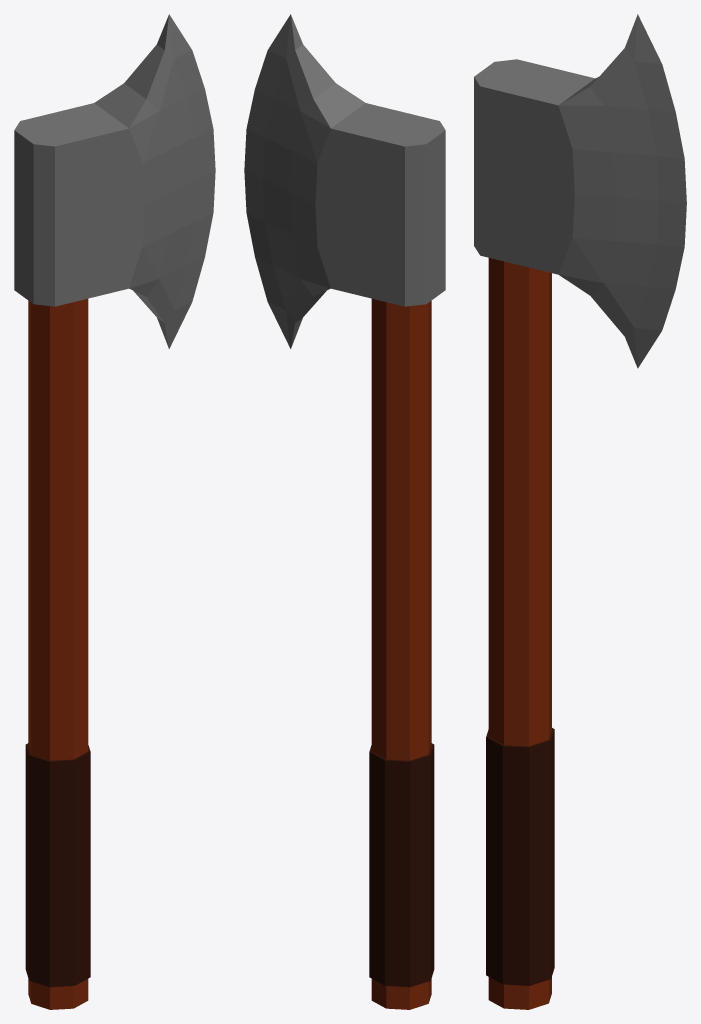
File: Axe.obj
The picture shows the model from 3 angles, left to right: view 1: azimuth 30°, elevation 25°; view 2: azimuth 150°, elevation 25°; view 3: azimuth 330°, elevation 25°; orthographic projection. The views are drawn at different scales.
Parts seen in each view (by area): view 1: Axe2_Cube.003; view 2: Axe2_Cube.003; view 3: Axe2_Cube.003.
Boxes of the visible parts, x1,y1,x2,y2 form: Axe2_Cube.003: [14, 14, 215, 1009]; Axe2_Cube.003: [244, 14, 445, 1009]; Axe2_Cube.003: [474, 14, 686, 1009].
Size of the model in its own units: 0.3564 by 1.7 by 0.1125.
